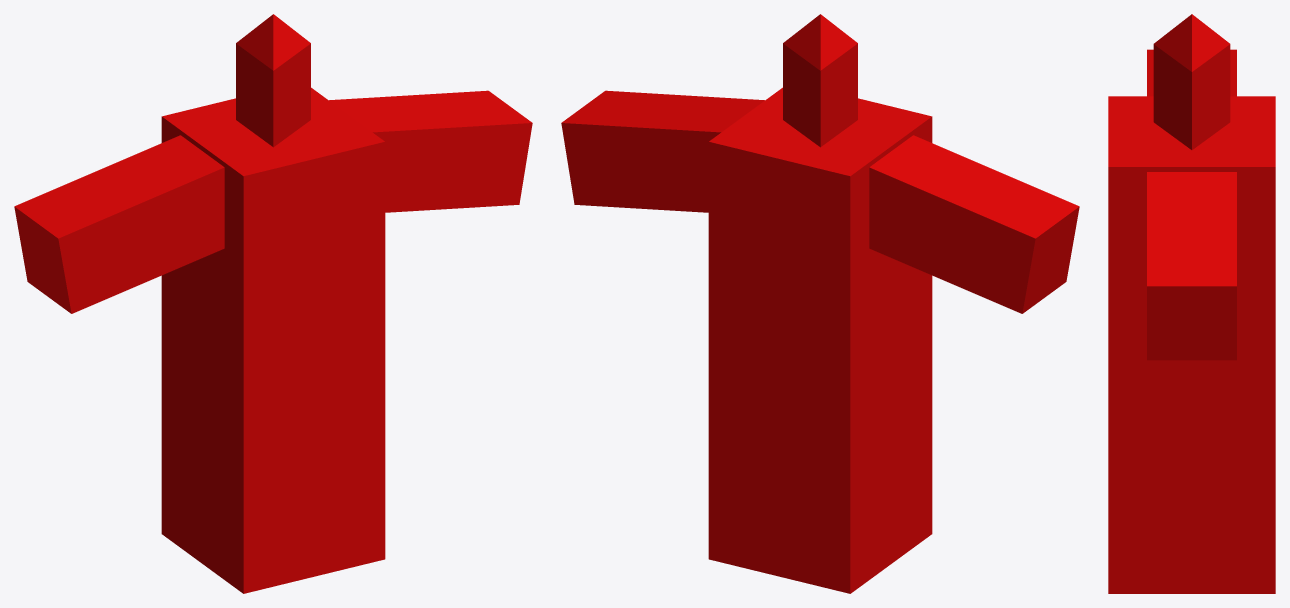
The model's file is Enemy-Low.fbx.
3 renders of one model, left to right at view 1: azimuth 30°, elevation 25°; view 2: azimuth 150°, elevation 25°; view 3: azimuth 270°, elevation 25°, orthographic. The views are drawn at different scales.
Visible parts, largest first — view 1: polySurface2; view 2: polySurface2; view 3: polySurface2.
Part boxes in pixels (box(x1,y1,x2,y2)): polySurface2: box(14, 14, 532, 593); polySurface2: box(561, 14, 1079, 593); polySurface2: box(1108, 14, 1275, 593).
Bounding box in the file's own units: 3.35 × 3.59 × 1.
